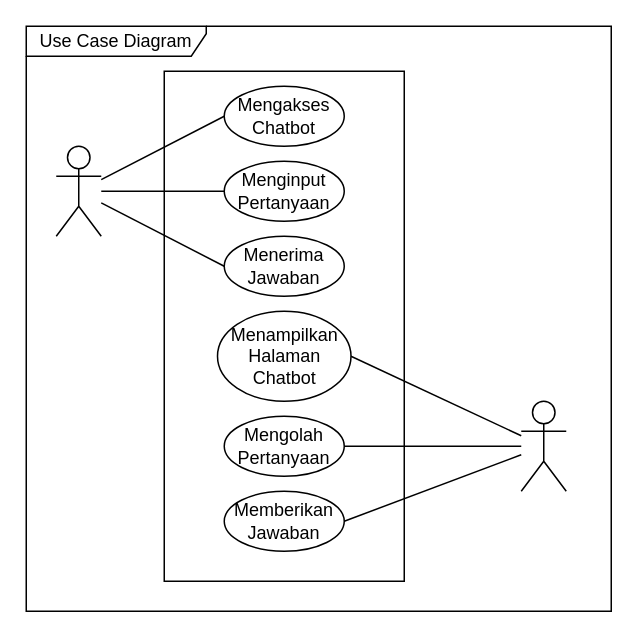
The diagram is 638 pixels wide and 638 high, and some of its shapes have lost their labels. The centre of each missing label's shape, as x and y in pixels:
"Chatbot" goes at point (543, 445).
"Pengguna" goes at point (78, 190).
